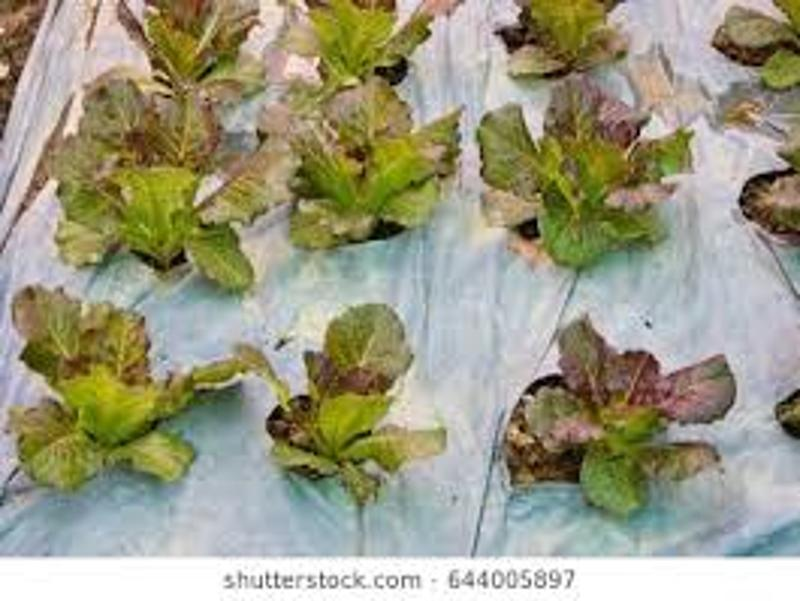red lettuce: (68, 76, 295, 278), (519, 313, 748, 512), (15, 286, 220, 470), (478, 95, 698, 260), (270, 305, 440, 504), (295, 90, 455, 230), (125, 7, 278, 78), (305, 1, 419, 84), (510, 4, 631, 76)
